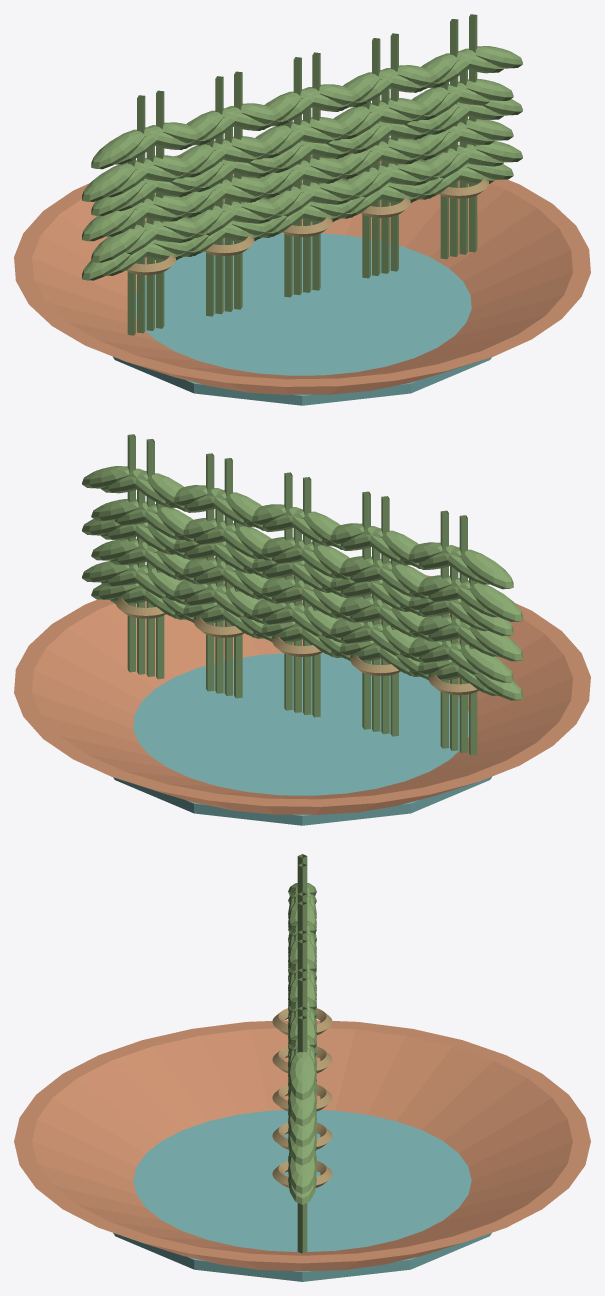
3 renders of one model, top to bottom at view 1: azimuth 30°, elevation 25°; view 2: azimuth 150°, elevation 25°; view 3: azimuth 270°, elevation 25°, orthographic.
Parts seen in each view (by area): view 1: BA-0049 batched; view 2: BA-0049 batched; view 3: BA-0049 batched.
Boxes of the visible parts, bbox=[...] form: BA-0049 batched: bbox=[14, 14, 590, 405]; BA-0049 batched: bbox=[14, 434, 590, 825]; BA-0049 batched: bbox=[14, 854, 590, 1281].
Bounding box in the file's own units: 0.48 × 0.26 × 0.48.
